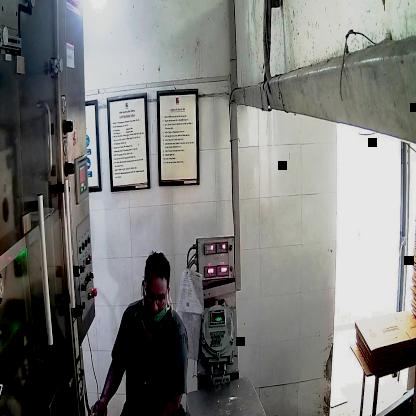goggles: (141, 281, 171, 312)
